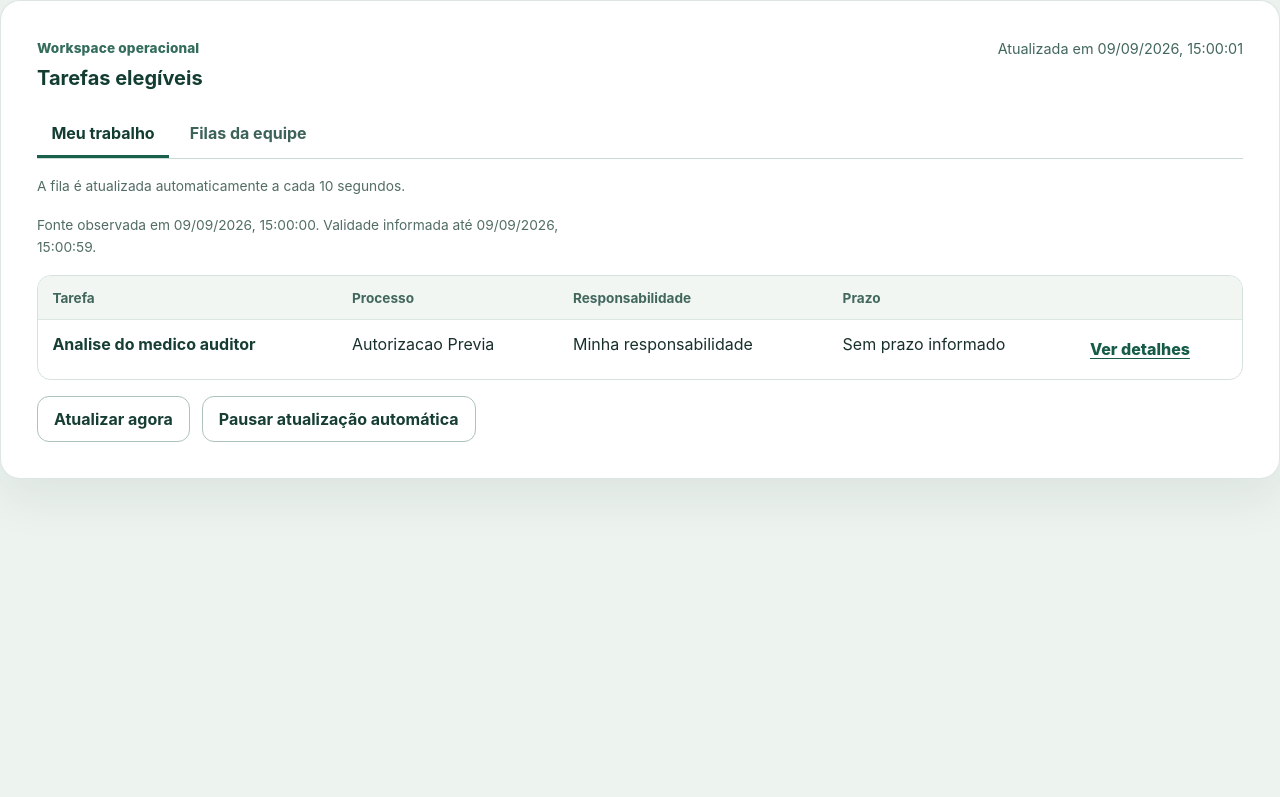
Test: remove fila e detalhe quando o servidor revoga o acesso de colaborador
This screenshot has width=1280, height=797.
What coordinates should you click on to do the following:
click the button with aria-label "Ver detalhes: Analise do medico auditor"
I would click on:
 (1140, 350)
Its box is [1090,334,1190,365].
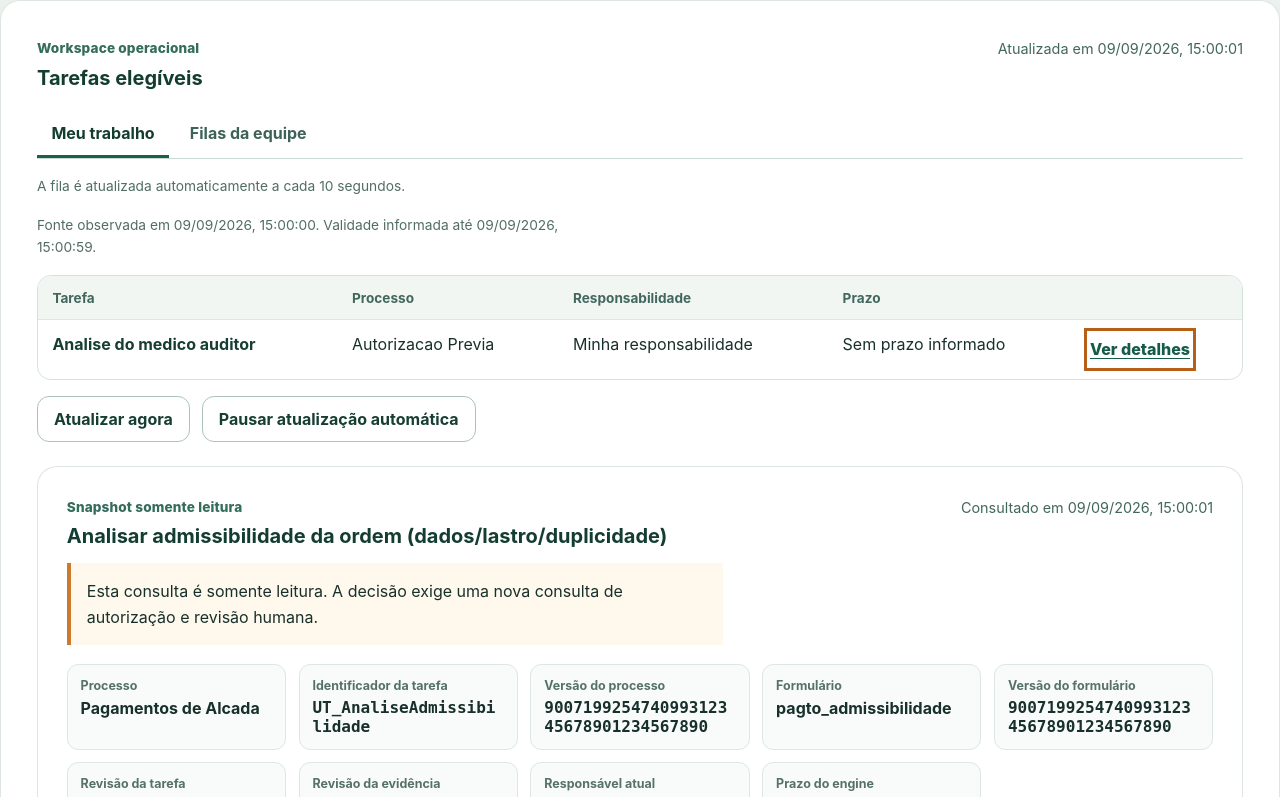
Now the heading "Analisar admissibilidade da ordem (dados/lastro/duplicidade)" is shown, box [67,526,667,548]
What coordinates should you click on to do the following:
click the button "Atualizar agora"
I would click on:
 (113, 419)
Its box is [37,396,190,442].
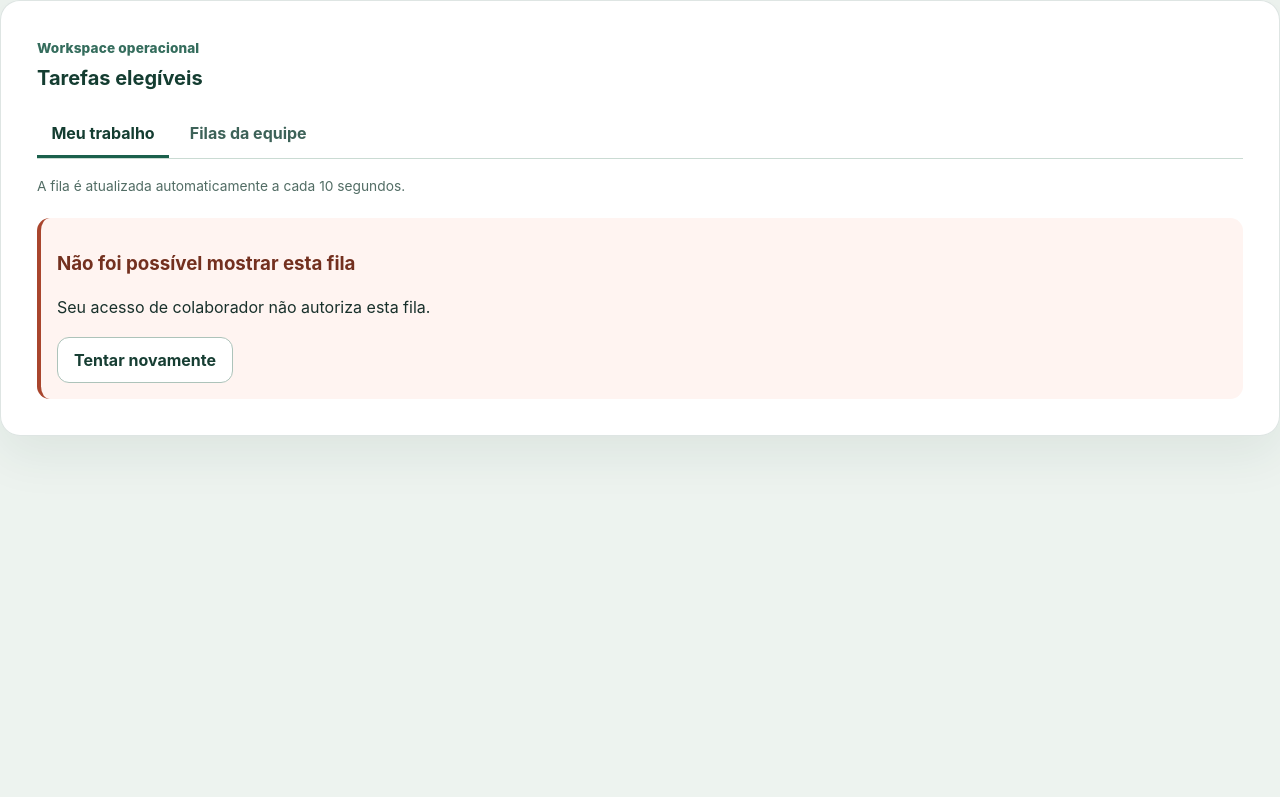
Now the message shows "não autoriza esta fila", box [57,297,430,317]
Now the heading "Analisar admissibilidade da ordem (dados/lastro/duplicidade)" is gone
